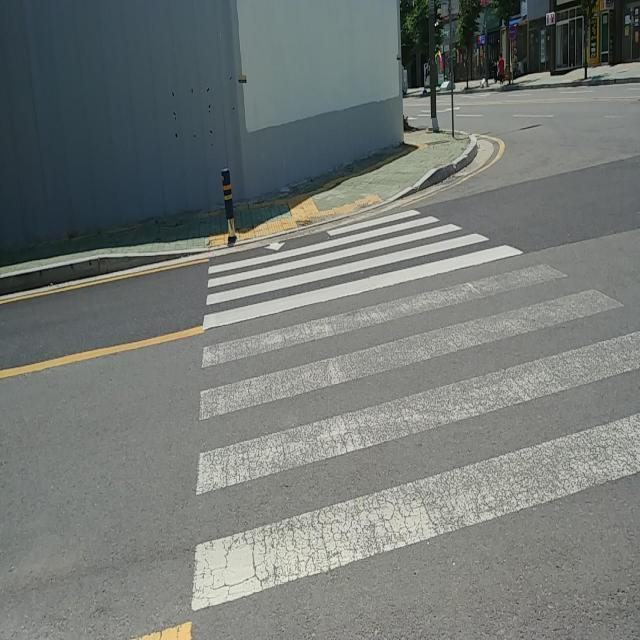횡단보도: (185, 198, 640, 622)
